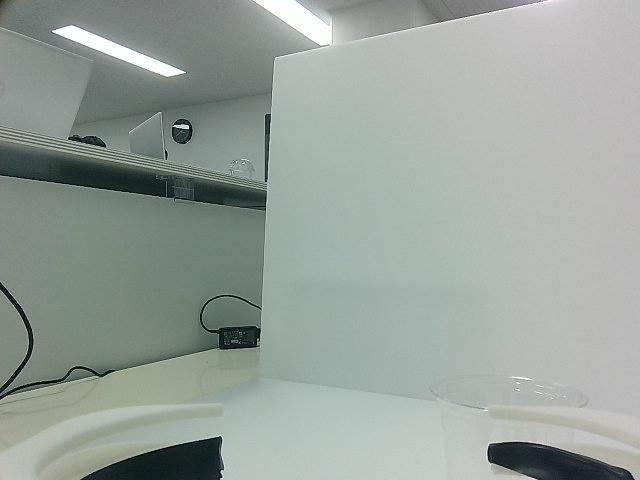Plastik: (427, 372, 587, 480)
